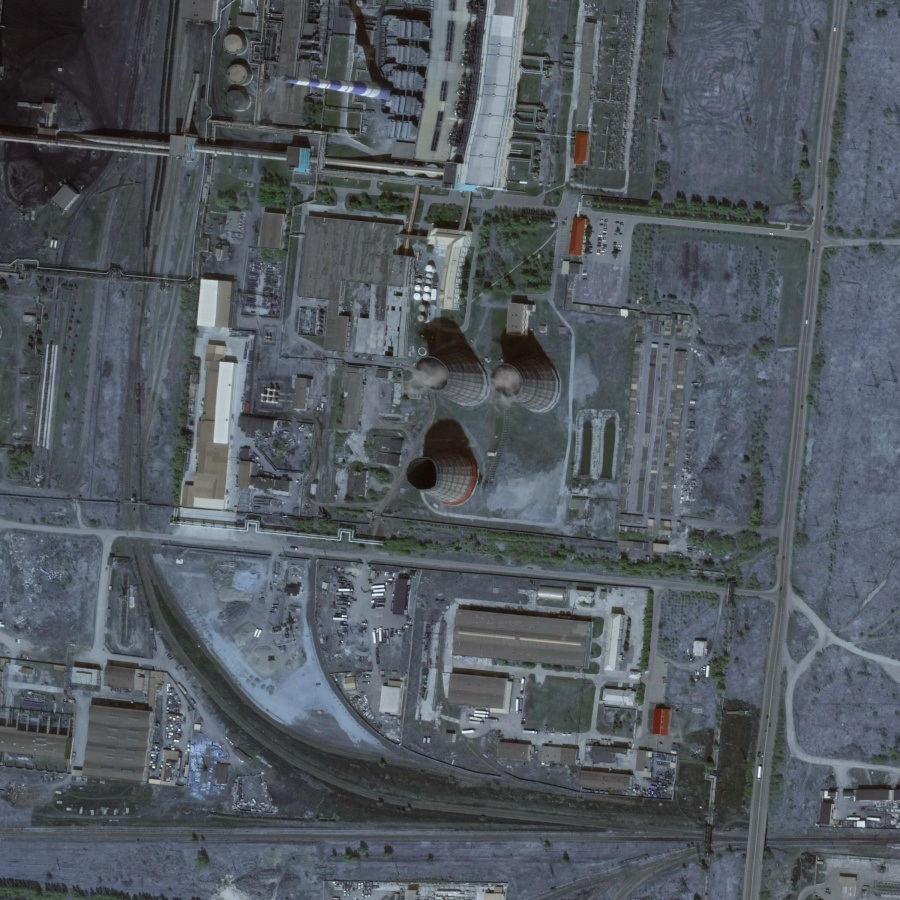PowerPlant: (398, 288, 587, 543)
